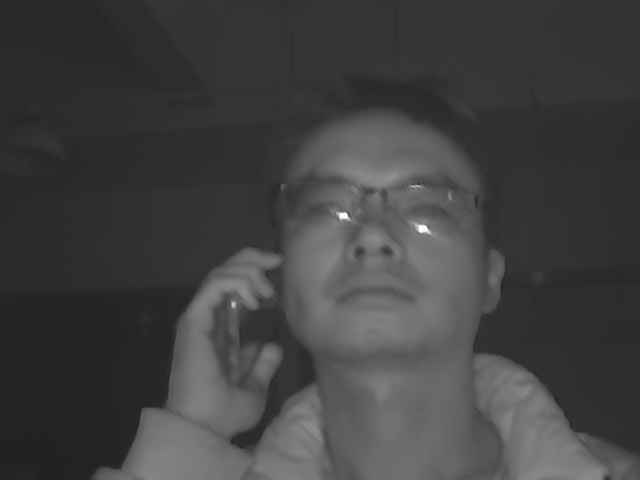hand: (163, 244, 285, 444)
